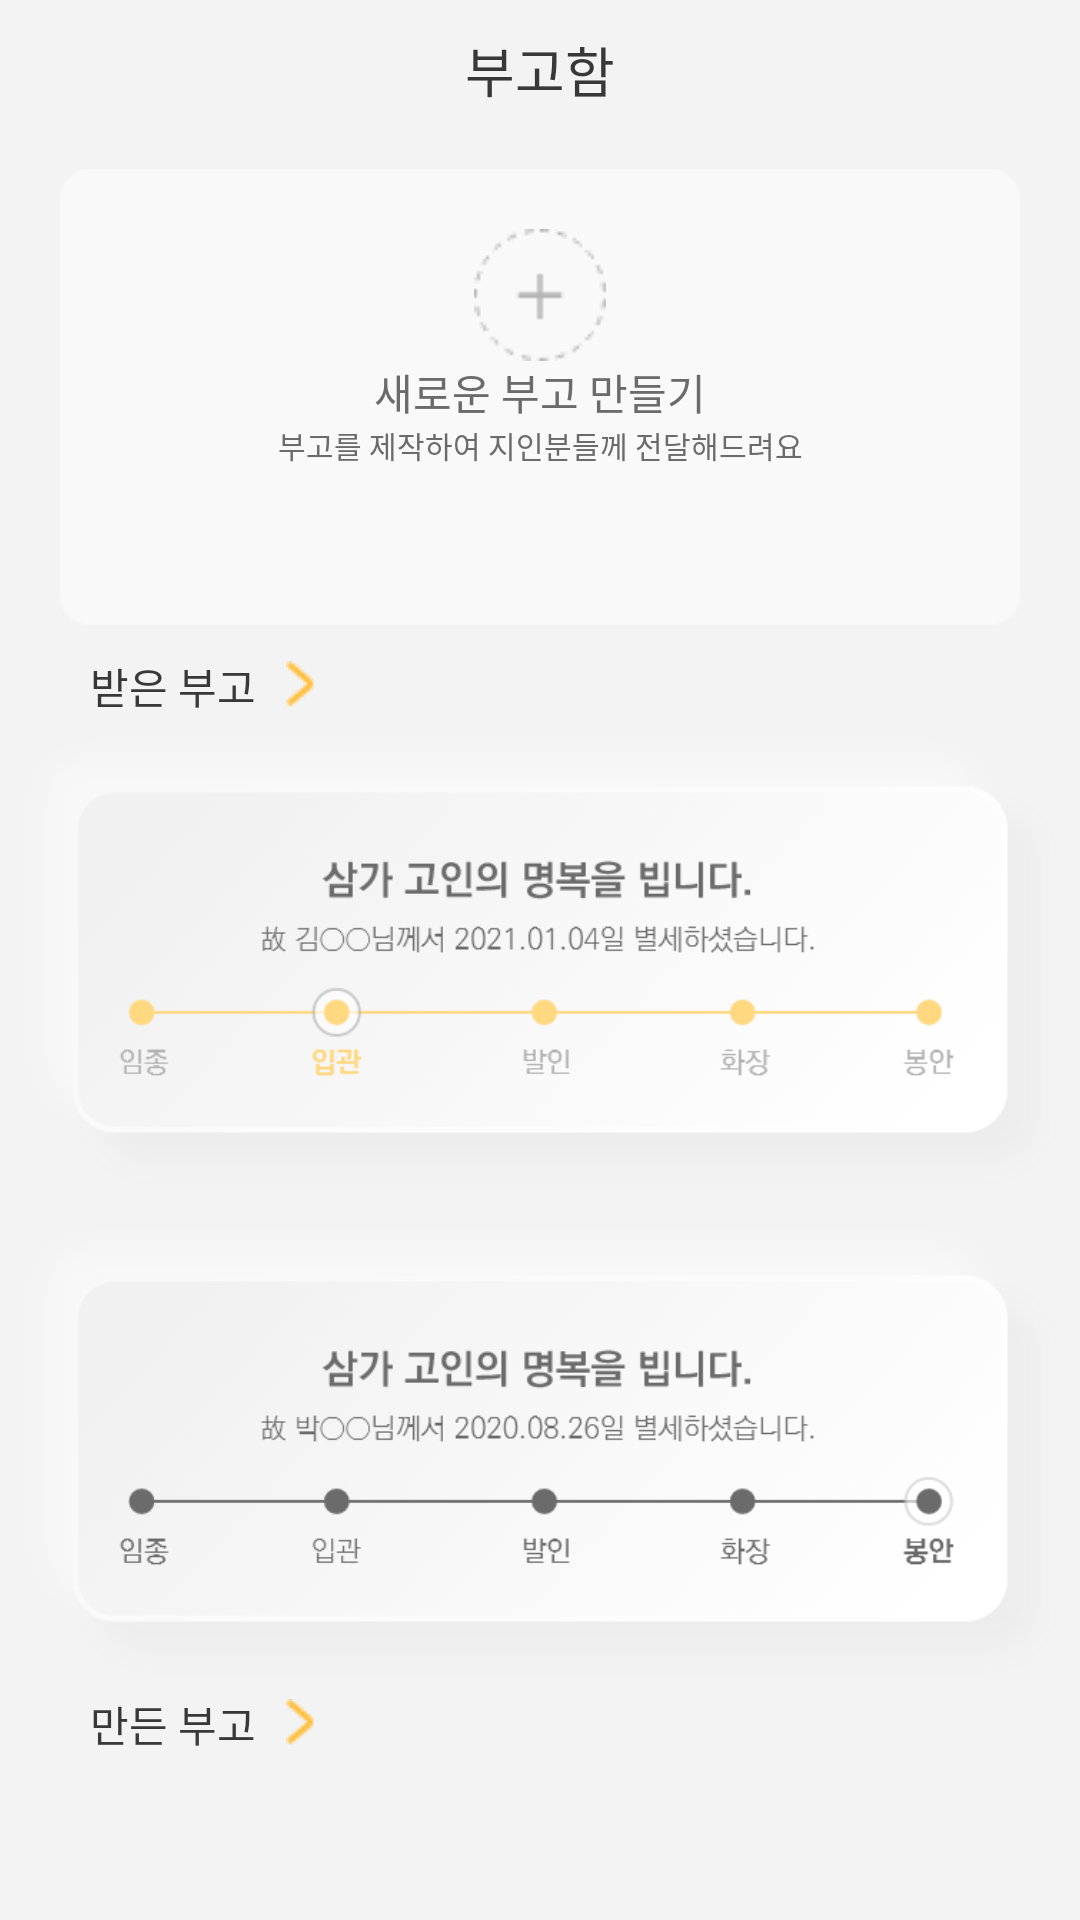

Named icons in this screenshot (1080px x 1920px) and their bounding boxes, (x1, y1, x2, y2):
plus: (474, 229, 606, 361)
